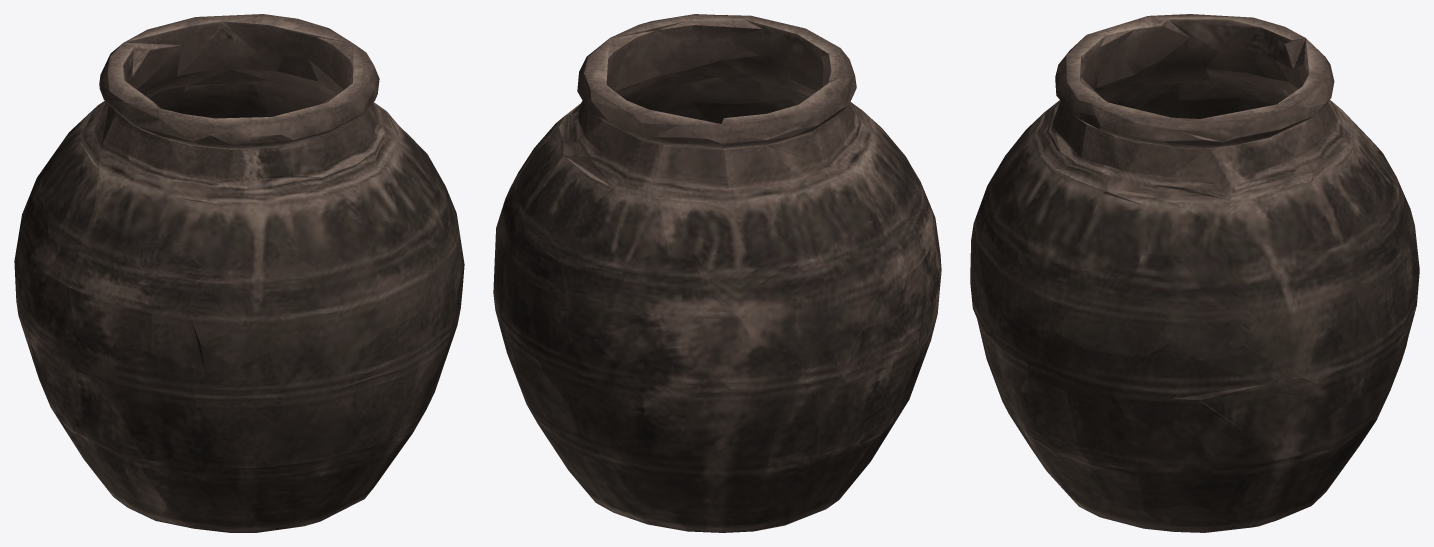
Rendered from onggi_jar_d.glb.
3 renders of one model, left to right at view 1: azimuth 30°, elevation 25°; view 2: azimuth 150°, elevation 25°; view 3: azimuth 270°, elevation 25°, orthographic.
Visible parts, largest first — view 1: onggi_jar; view 2: onggi_jar; view 3: onggi_jar.
Part boxes in pixels (left/top/right/bottom): onggi_jar: left=14, top=14, right=464, bottom=532; onggi_jar: left=493, top=14, right=941, bottom=532; onggi_jar: left=970, top=14, right=1419, bottom=532.
Bounding box in the file's own units: 0.7129 × 0.72 × 0.712.
Materials: 1 (1 with a texture image).
